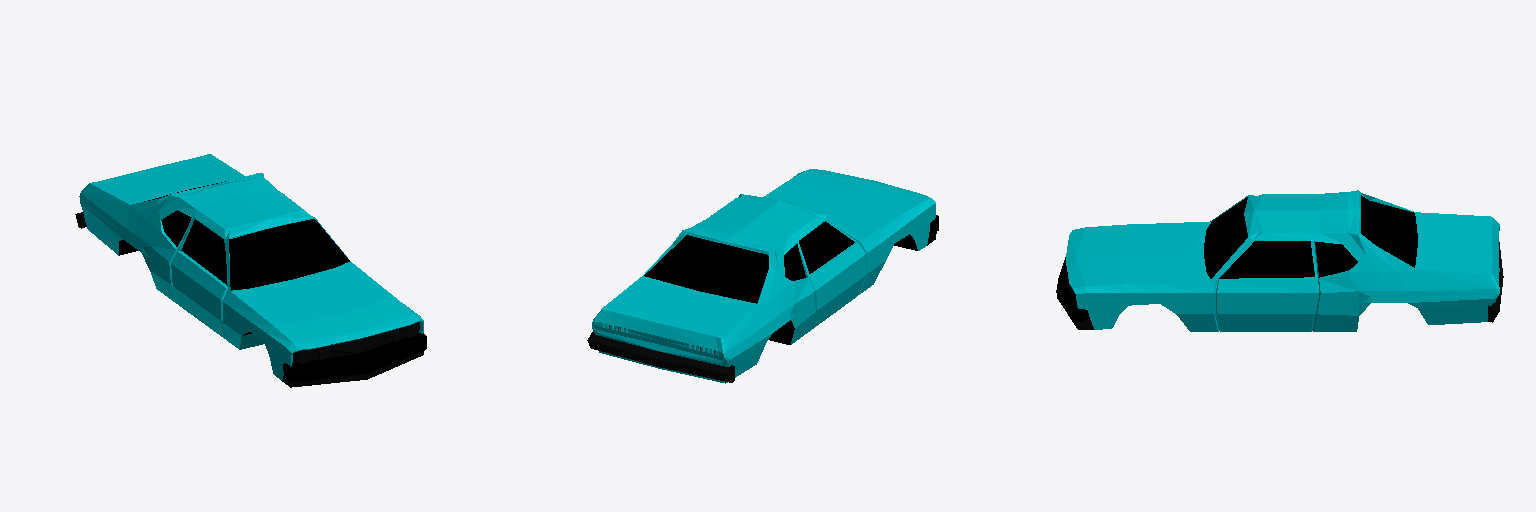
The model's file is carro2.obj.
The picture shows the model from 3 angles: view 1: azimuth 30°, elevation 25°; view 2: azimuth 150°, elevation 25°; view 3: azimuth 270°, elevation 25°; orthographic projection.
Parts seen in each view (by area): view 1: Cube; view 2: Cube; view 3: Cube.
Boxes of the visible parts, <box> form: Cube: <box>75,154,426,387</box>; Cube: <box>587,169,938,383</box>; Cube: <box>1056,190,1503,331</box>.
Bounding box in the file's own units: 1.24 × 0.7737 × 3.38.